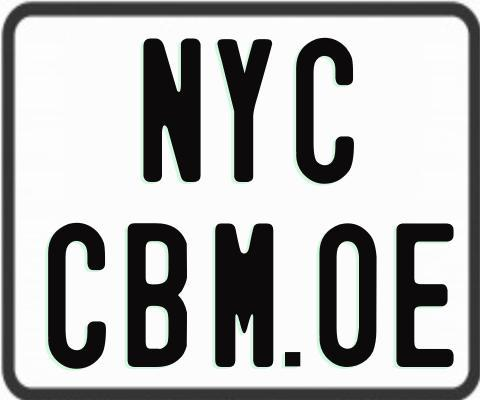0: (317, 222, 381, 367)
B: (126, 222, 188, 372)
C: (47, 221, 111, 370), (295, 37, 358, 187)
E: (394, 220, 452, 364)
M: (212, 222, 270, 367)
N: (140, 38, 199, 187)
Y: (214, 36, 273, 184)
